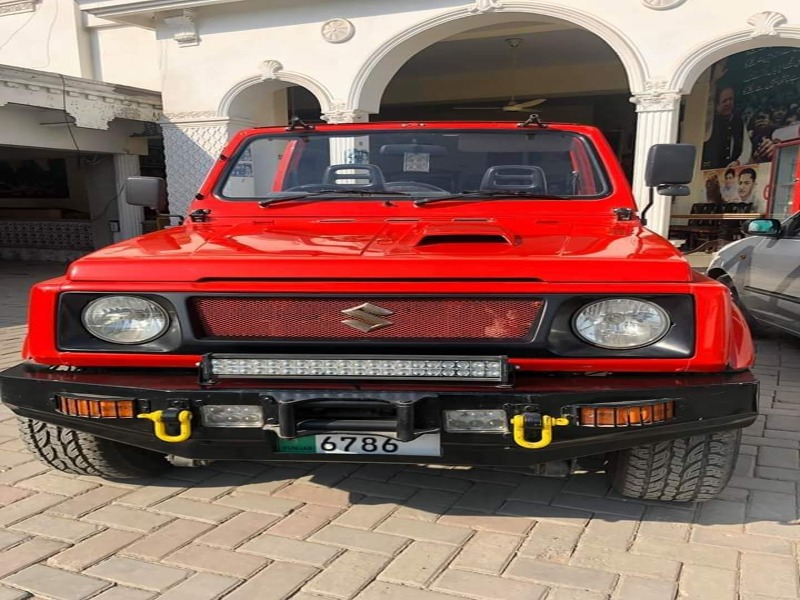License Plate: (269, 427, 447, 462)
